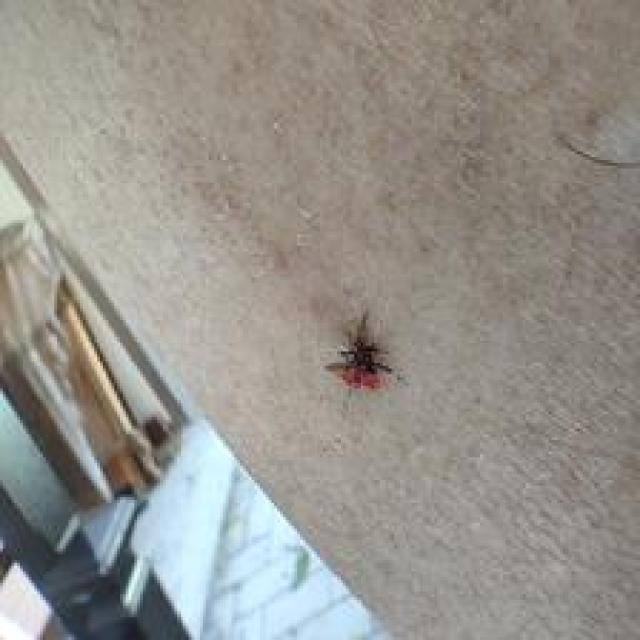Aedes albopictus: (323, 310, 400, 393)
